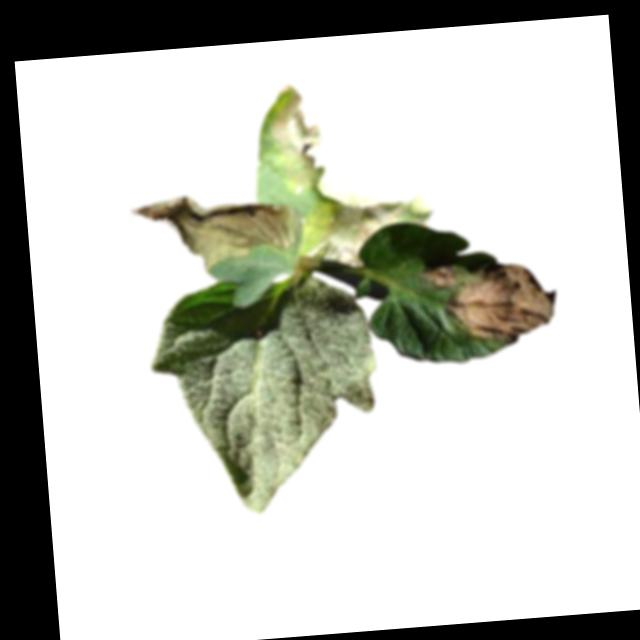Late_blight: (263, 77, 435, 270), (125, 184, 305, 280), (421, 258, 561, 348)
